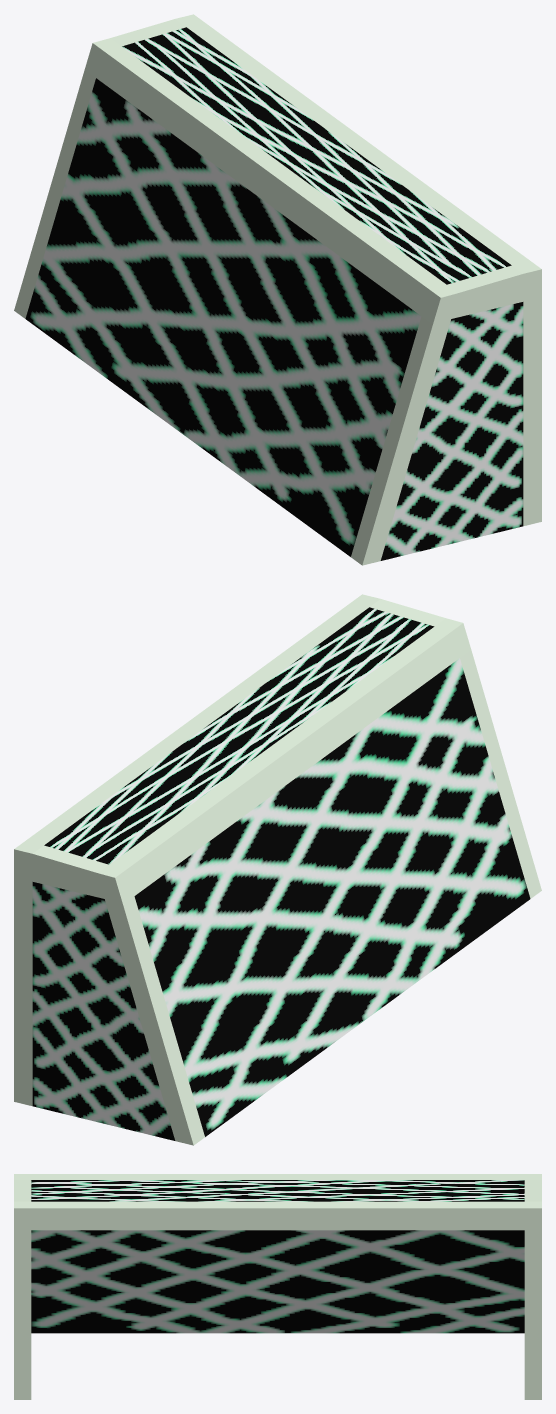
3 views of the same model, one above another, from view 1: azimuth 30°, elevation 25°; view 2: azimuth 150°, elevation 25°; view 3: azimuth 270°, elevation 25° (orthographic). The views are drawn at different scales.
Parts seen in each view (by area): view 1: 球门; view 2: 球门; view 3: 球门.
Boxes of the visible parts, bbox=[...] form: 球门: bbox=[14, 14, 541, 565]; 球门: bbox=[14, 594, 541, 1145]; 球门: bbox=[14, 1174, 541, 1399].
Bounding box in the file's own units: 2.09 × 2.8 × 7.
1 material, 1 textured.
